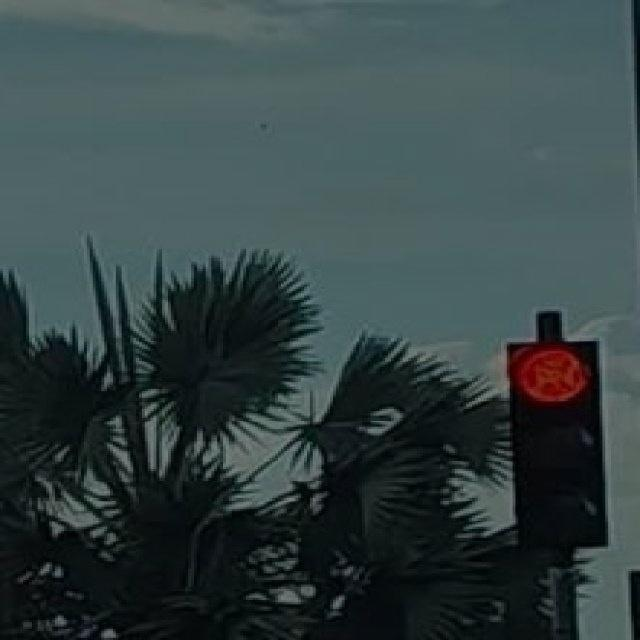Red: (500, 338, 602, 542)
